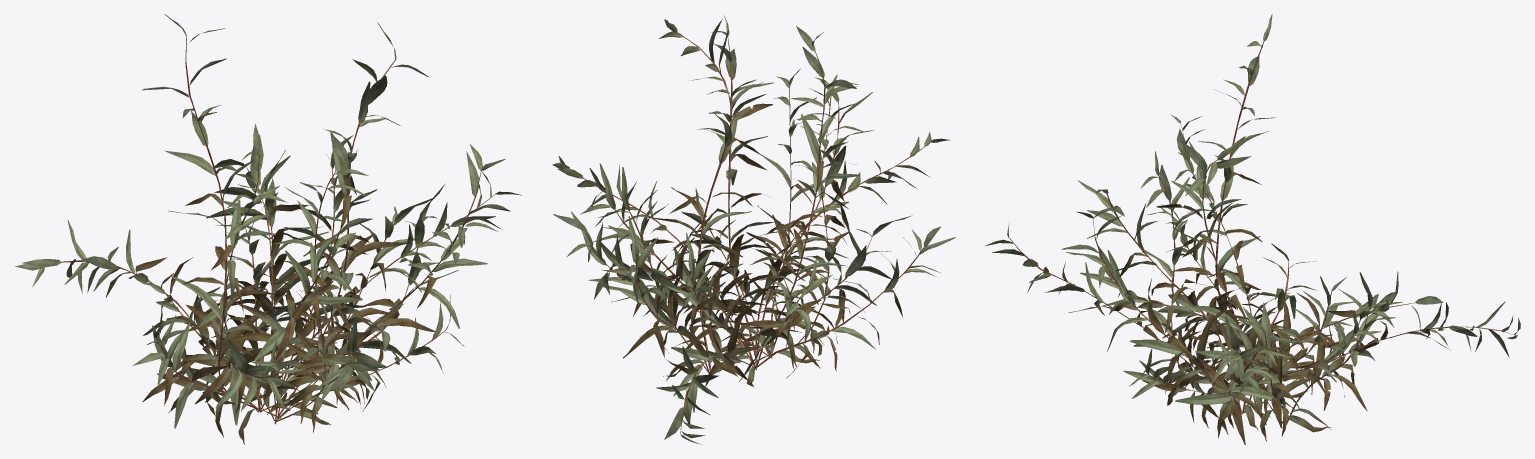
File: plant_shrub_kit.glb
3 renders of one model, left to right at view 1: azimuth 30°, elevation 25°; view 2: azimuth 150°, elevation 25°; view 3: azimuth 270°, elevation 25°, orthographic. The views are drawn at different scales.
Visible parts, largest first — view 1: shrub_00, shrub_02, shrub_01, shrub_03; view 2: shrub_02, shrub_00, shrub_01, shrub_03; view 3: shrub_00, shrub_01, shrub_02, shrub_03.
Part boxes in pixels (<box>): shrub_00: <box>142,14,510,444</box>; shrub_02: <box>15,123,521,437</box>; shrub_01: <box>181,22,433,425</box>; shrub_03: <box>138,135,464,432</box>; shrub_02: <box>552,77,955,444</box>; shrub_00: <box>580,15,873,365</box>; shrub_01: <box>596,18,912,382</box>; shrub_03: <box>553,68,832,366</box>; shrub_00: <box>1061,14,1443,444</box>; shrub_01: <box>1102,136,1402,441</box>; shrub_02: <box>985,115,1520,428</box>; shrub_03: <box>1123,151,1381,427</box>.
Size of the model in its own units: 1.77 by 1.69 by 2.28.
1 material, 1 textured.
